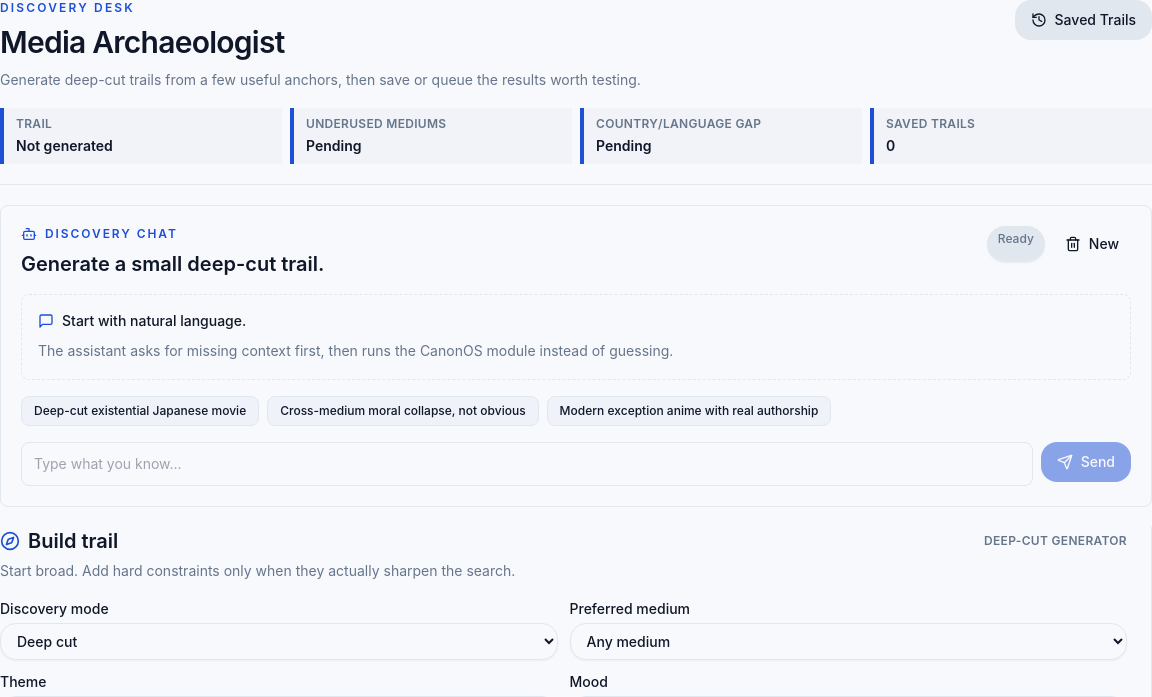
Test: MediaArchaeologistPage › renders the generator and opens the empty saved trail dialog
Expected: the heading "Media Archaeologist" is shown, [0,24,284,60]
Expected: the text "No saved discovery trails" is not shown
What coordinates should you click on to do the following:
click the button "Saved Trails"
I would click on:
 (1083, 20)
Its box is [1015,0,1151,40].
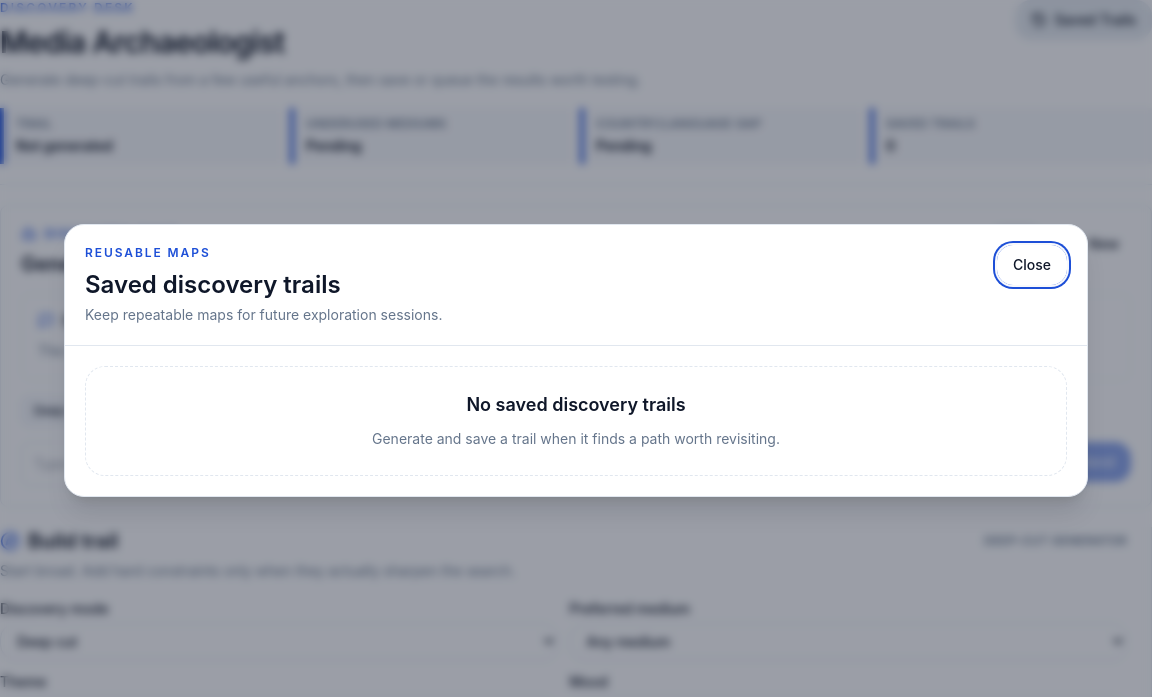
Expected: the heading "No saved discovery trails" is shown, [466,394,686,414]
